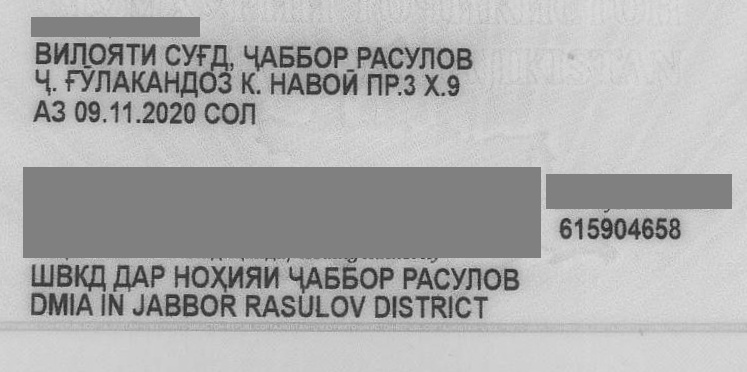0: (74, 95, 90, 127), (155, 95, 171, 127), (183, 95, 199, 127), (613, 214, 631, 242)
1: (573, 214, 589, 242), (122, 95, 134, 127), (111, 95, 121, 127)
2: (142, 95, 158, 127), (169, 95, 185, 127)
3: (404, 62, 420, 104), (50, 95, 68, 127)
4: (625, 214, 645, 242)
5: (583, 214, 603, 242), (654, 214, 670, 242)
6: (640, 214, 658, 242), (558, 214, 574, 242)
8: (667, 214, 685, 242)
9: (439, 62, 465, 104), (87, 95, 103, 127), (599, 214, 617, 242)
А: (143, 63, 163, 101), (130, 257, 148, 297), (306, 257, 324, 297), (112, 63, 130, 101), (286, 64, 304, 102), (260, 40, 278, 76), (419, 257, 435, 297), (373, 41, 389, 77)
Б: (321, 257, 341, 297), (341, 257, 361, 297), (293, 40, 313, 76), (275, 40, 293, 76)
В: (500, 257, 528, 297), (454, 42, 482, 78), (54, 257, 74, 297), (302, 64, 322, 102), (37, 38, 53, 74)
Д: (90, 257, 114, 297), (181, 63, 201, 101), (210, 39, 228, 75), (115, 257, 131, 297)
З: (215, 63, 241, 101)
И: (228, 257, 252, 297), (265, 257, 287, 297), (139, 39, 163, 75), (50, 38, 70, 74)
Й: (339, 64, 365, 102)
К: (70, 257, 90, 297), (243, 63, 263, 101), (129, 63, 145, 101)
Л: (93, 63, 113, 101), (68, 38, 88, 74), (465, 257, 483, 297), (241, 96, 263, 126), (421, 42, 437, 78)
Н: (176, 257, 198, 297), (162, 63, 182, 101), (272, 64, 288, 102)
О: (191, 257, 217, 297), (356, 257, 376, 297), (481, 257, 501, 297), (320, 64, 340, 102), (87, 38, 107, 74), (311, 40, 331, 76), (434, 42, 454, 78), (223, 96, 247, 126), (197, 63, 215, 101)
П: (369, 64, 383, 102)
Р: (328, 41, 364, 77), (146, 257, 174, 297), (375, 257, 403, 297), (384, 64, 400, 102), (406, 257, 420, 297), (360, 41, 372, 77)
С: (433, 257, 451, 297), (206, 96, 228, 126), (386, 41, 404, 77), (168, 39, 182, 75)
Т: (126, 38, 144, 74)
У: (449, 257, 467, 297), (404, 41, 422, 77), (80, 63, 96, 101), (182, 39, 198, 75)
Ч: (291, 257, 307, 297), (245, 40, 261, 76)
Ш: (33, 257, 53, 297)
Я: (246, 257, 270, 297), (104, 38, 124, 74)
х: (423, 64, 429, 102)
Ғ: (65, 63, 81, 101), (197, 39, 213, 75)
Ҳ: (211, 257, 235, 297)
Ҷ: (37, 63, 59, 101)
